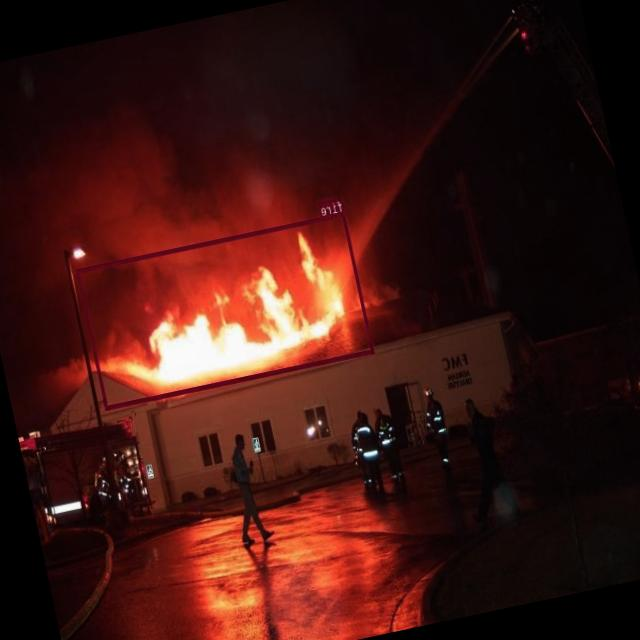fire: (76, 211, 374, 409)
